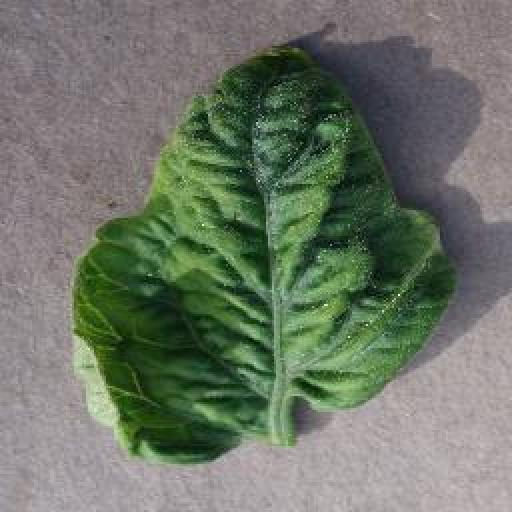disease_tomato: (71, 40, 457, 468)
